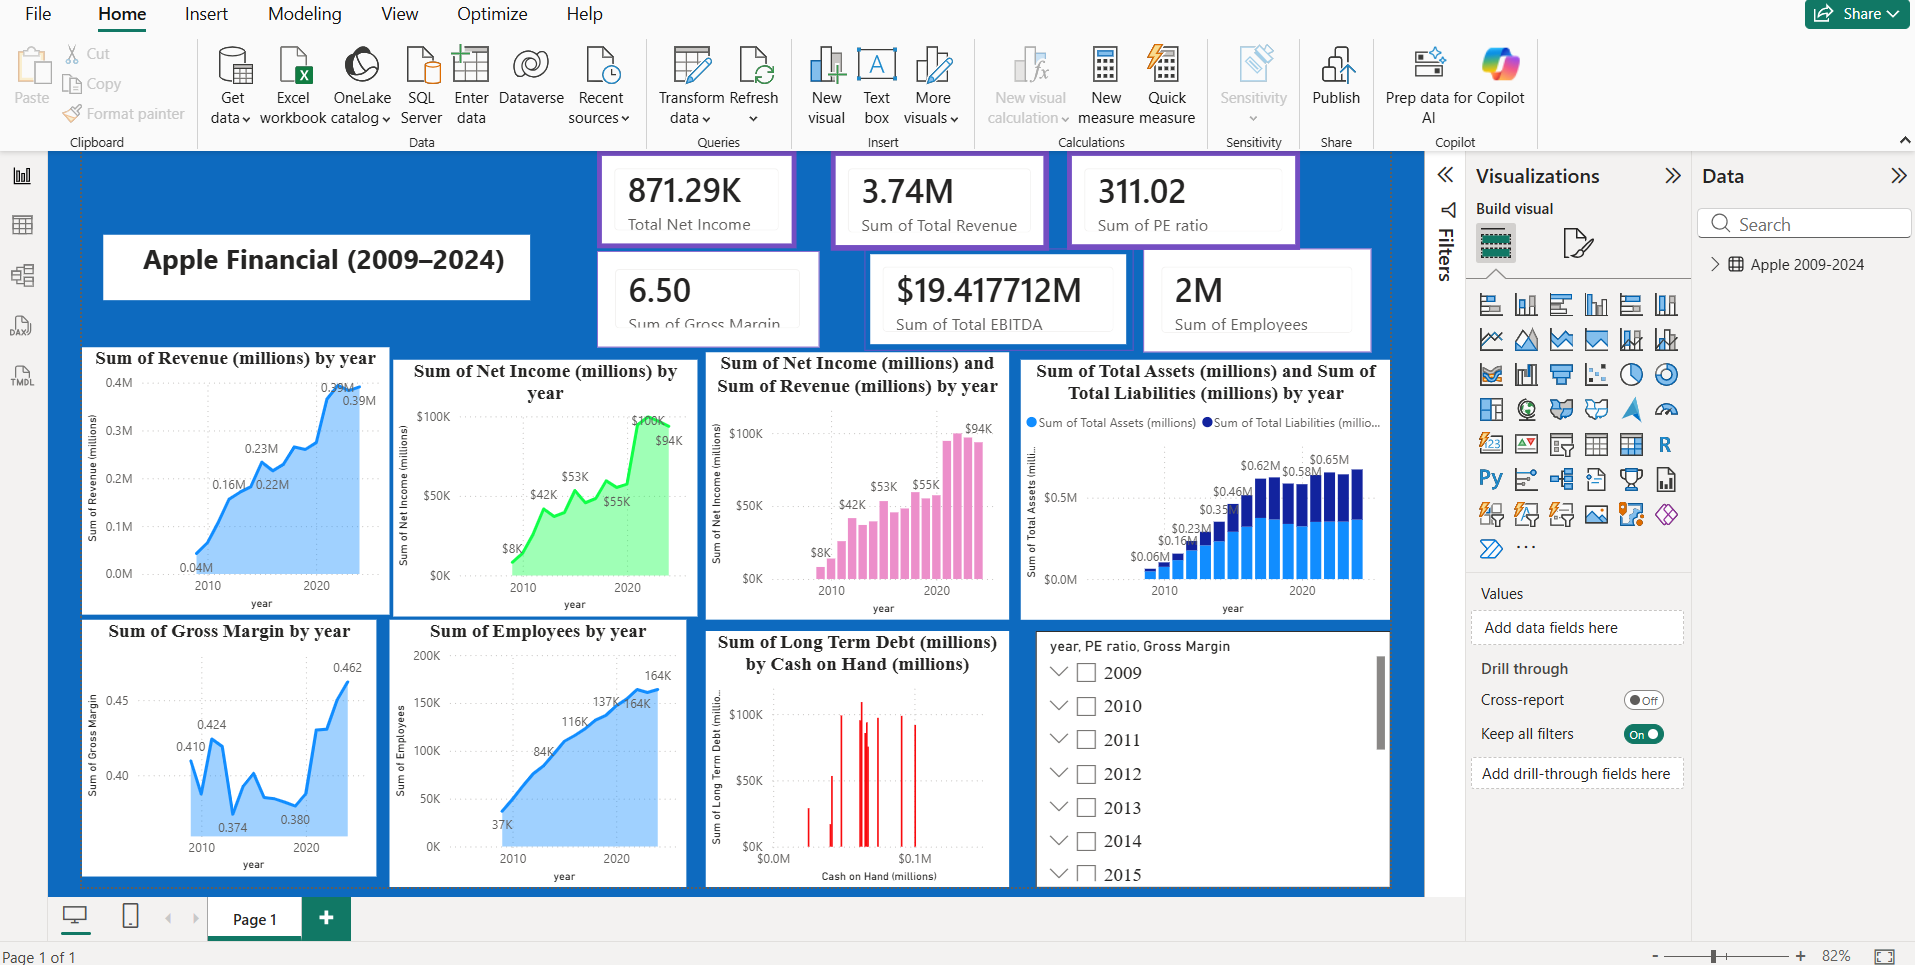

This screenshot's page, from the dashboard's own definition file:
{"tool":"powerbi","page":{"name":"Page 1","canvas":[1280,720],"ordinal":0},"visuals":[{"type":"lineChart","fields":{"Category":["Apple 2009-2024.year"],"Y":["Sum(Apple 2009-2024.Revenue (millions))"]},"box":[0,191.8,300.4,261.8],"z":0},{"type":"lineChart","fields":{"Category":["Apple 2009-2024.year"],"Y":["Sum(Apple 2009-2024.Net Income (millions))"]},"box":[304,203.9,298,250.9],"z":1000},{"type":"clusteredColumnChart","fields":{"Category":["Apple 2009-2024.year"],"Y":["Sum(Apple 2009-2024.Net Income (millions))"]},"box":[610.5,196.6,296.8,261.8],"z":2000},{"type":"columnChart","fields":{"Category":["Apple 2009-2024.year"],"Y":["Sum(Apple 2009-2024.Total Assets (millions))","Sum(Apple 2009-2024.Total Liabilities (millions))"]},"box":[918.1,203.9,361.9,254.6],"z":3000},{"type":"areaChart","fields":{"Category":["Apple 2009-2024.year"],"Y":["Sum(Apple 2009-2024.Gross Margin)"]},"box":[0,458.4,288.3,250.9],"z":4000},{"type":"lineChart","fields":{"Category":["Apple 2009-2024.year"],"Y":["Sum(Apple 2009-2024.Employees)"]},"box":[300.4,458.4,290.8,261.8],"z":5000},{"type":"clusteredColumnChart","fields":{"Category":["Apple 2009-2024.Cash on Hand (millions)"],"Y":["Sum(Apple 2009-2024.Long Term Debt (millions))"]},"box":[610.5,469.3,296.8,250.9],"z":6000},{"type":"slicer","fields":{"Values":["Apple 2009-2024.year","Apple 2009-2024.PE ratio","Apple 2009-2024.Gross Margin"]},"box":[932.6,469.3,347.5,250.9],"z":7000},{"type":"textbox","box":[20.5,82,417.4,63.9],"z":8000},{"type":"cardVisual","fields":{"Data":["Sum(Apple 2009-2024.Employees)"]},"box":[1038.7,95.3,223.2,101.3],"z":9000},{"type":"cardVisual","fields":{"Data":["Sum(Apple 2009-2024.Gross Margin)"]},"box":[503.8,97.8,217.7,94.2],"z":10000},{"type":"cardVisual","fields":{"Data":["Sum(Apple 2009-2024.Total Revenue)"]},"box":[732.3,0,213.5,97.7],"z":11000},{"type":"group","id":"g1","title":"Group 1","box":[766.1,95.3,263,100.1],"z":12000},{"type":"cardVisual","fields":{"Data":["Sum(Apple 2009-2024.Total EBITDA)"]},"box":[766.1,95.3,262.8,100.1],"z":12000,"group":"g1"},{"type":"cardVisual","fields":{"Data":["Sum(Apple 2009-2024.PE ratio)"]},"box":[963.9,0,228,96.5],"z":13000},{"type":"cardVisual","fields":{"Data":["Apple 2009-2024.Total Net Income"]},"box":[504.3,0,195.4,95.3],"z":14000}]}

Visuals, with their boxes on the page's 1280x720 design canvas (x1, y1, x2, y2). These are canvas units, not pixel positions in the 1915x965 screenshot, which may show the page scaled, cropped or inside an application window:
lineChart - Apple 2009-2024.year x Sum(Apple 2009-2024.Revenue (millions)): [x1=0, y1=192, x2=300, y2=454]
lineChart - Apple 2009-2024.year x Sum(Apple 2009-2024.Net Income (millions)): [x1=304, y1=204, x2=602, y2=455]
clusteredColumnChart - Apple 2009-2024.year x Sum(Apple 2009-2024.Net Income (millions)): [x1=610, y1=197, x2=907, y2=458]
columnChart - Apple 2009-2024.year x Sum(Apple 2009-2024.Total Assets (millions)): [x1=918, y1=204, x2=1280, y2=458]
areaChart - Apple 2009-2024.year x Sum(Apple 2009-2024.Gross Margin): [x1=0, y1=458, x2=288, y2=709]
lineChart - Apple 2009-2024.year x Sum(Apple 2009-2024.Employees): [x1=300, y1=458, x2=591, y2=720]
clusteredColumnChart - Apple 2009-2024.Cash on Hand (millions) x Sum(Apple 2009-2024.Long Term Debt (millions)): [x1=610, y1=469, x2=907, y2=720]
slicer - Apple 2009-2024.year x Apple 2009-2024.PE ratio: [x1=933, y1=469, x2=1280, y2=720]
textbox: [x1=20, y1=82, x2=438, y2=146]
cardVisual - Sum(Apple 2009-2024.Employees): [x1=1039, y1=95, x2=1262, y2=197]
cardVisual - Sum(Apple 2009-2024.Gross Margin): [x1=504, y1=98, x2=722, y2=192]
cardVisual - Sum(Apple 2009-2024.Total Revenue): [x1=732, y1=0, x2=946, y2=98]
"Group 1" group: [x1=766, y1=95, x2=1029, y2=195]
cardVisual - Sum(Apple 2009-2024.Total EBITDA): [x1=766, y1=95, x2=1029, y2=195]
cardVisual - Sum(Apple 2009-2024.PE ratio): [x1=964, y1=0, x2=1192, y2=96]
cardVisual - Apple 2009-2024.Total Net Income: [x1=504, y1=0, x2=700, y2=95]
